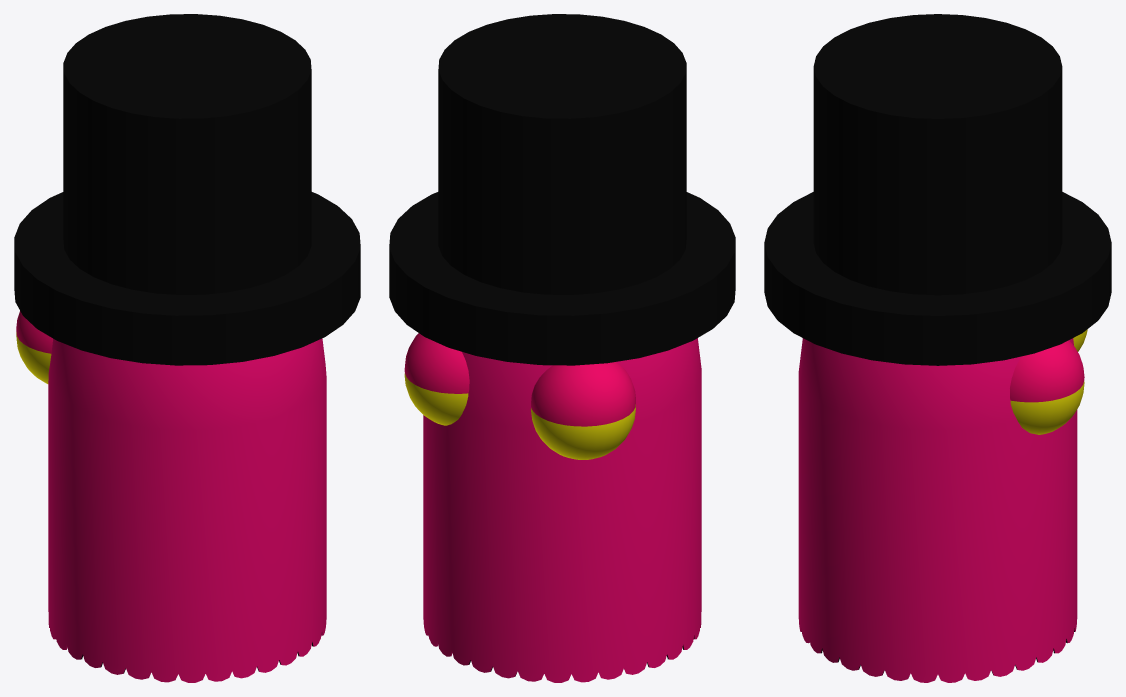
File: FANTASMA.fbx
3 renders of one model, left to right at view 1: azimuth 30°, elevation 25°; view 2: azimuth 150°, elevation 25°; view 3: azimuth 270°, elevation 25°, orthographic.
Parts seen in each view (by area): view 1: Cylinder, Cylinder.002, Cylinder.003, Sphere.001, Sphere.003; view 2: Cylinder, Cylinder.002, Cylinder.003, Sphere.001, Sphere.003, Sphere, Sphere.002; view 3: Cylinder, Cylinder.002, Cylinder.003, Sphere, Sphere.002.
Part boxes in pixels (x1,y1,x2,y2): Cylinder: (48, 338, 326, 682); Cylinder.002: (63, 14, 311, 294); Cylinder.003: (14, 192, 360, 365); Sphere.001: (16, 311, 52, 353); Sphere.003: (16, 332, 51, 383); Cylinder: (423, 338, 701, 682); Cylinder.002: (438, 14, 686, 294); Cylinder.003: (389, 192, 735, 365); Sphere.001: (531, 362, 635, 426); Sphere.003: (531, 404, 635, 459); Sphere: (404, 333, 469, 393); Sphere.002: (404, 373, 468, 425); Cylinder: (798, 338, 1077, 682); Cylinder.002: (813, 14, 1062, 295); Cylinder.003: (764, 192, 1111, 365); Sphere: (1010, 340, 1084, 402); Sphere.002: (1010, 381, 1084, 434).
Bounding box in the file's own units: 249 × 442 × 249.
